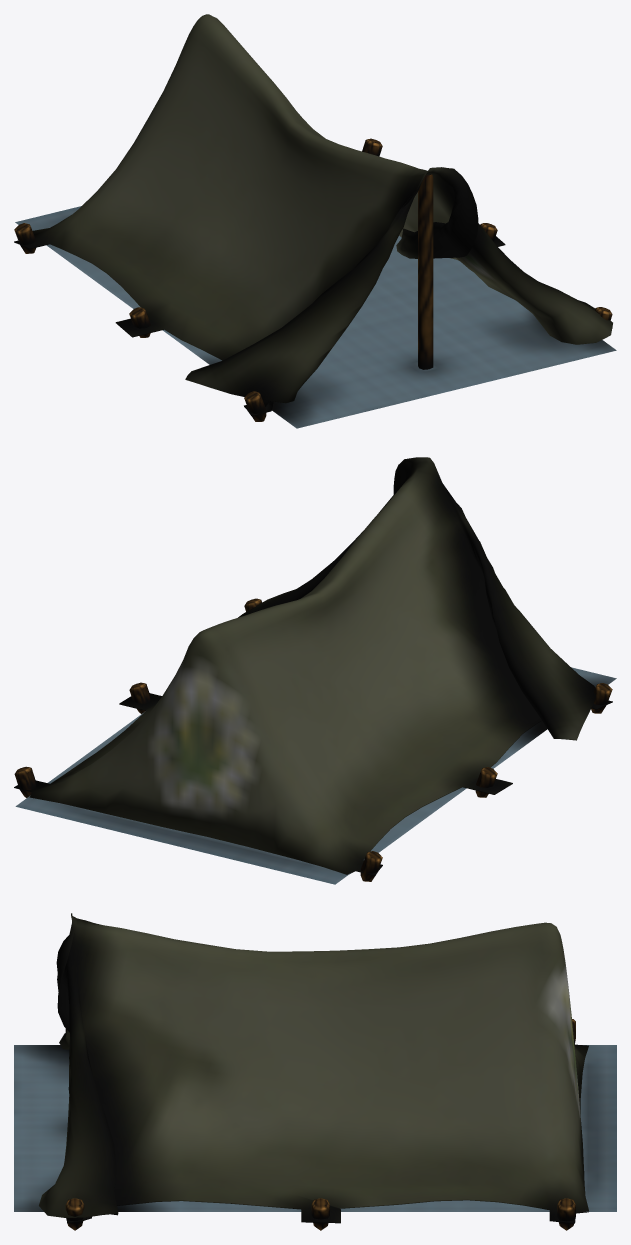
File: Tent.fbx
The picture shows the model from 3 angles, top to bottom: view 1: azimuth 30°, elevation 25°; view 2: azimuth 150°, elevation 25°; view 3: azimuth 270°, elevation 25°; orthographic projection. The views are drawn at different scales.
Parts seen in each view (by area): view 1: Camp; view 2: Camp; view 3: Camp.
Part boxes in pixels (box(x1,y1,x2,y2)): Camp: box(14, 14, 616, 428); Camp: box(14, 457, 616, 884); Camp: box(14, 913, 616, 1230).
Size of the model in its own units: 810 by 436 by 1039.
1 material, 1 textured.
